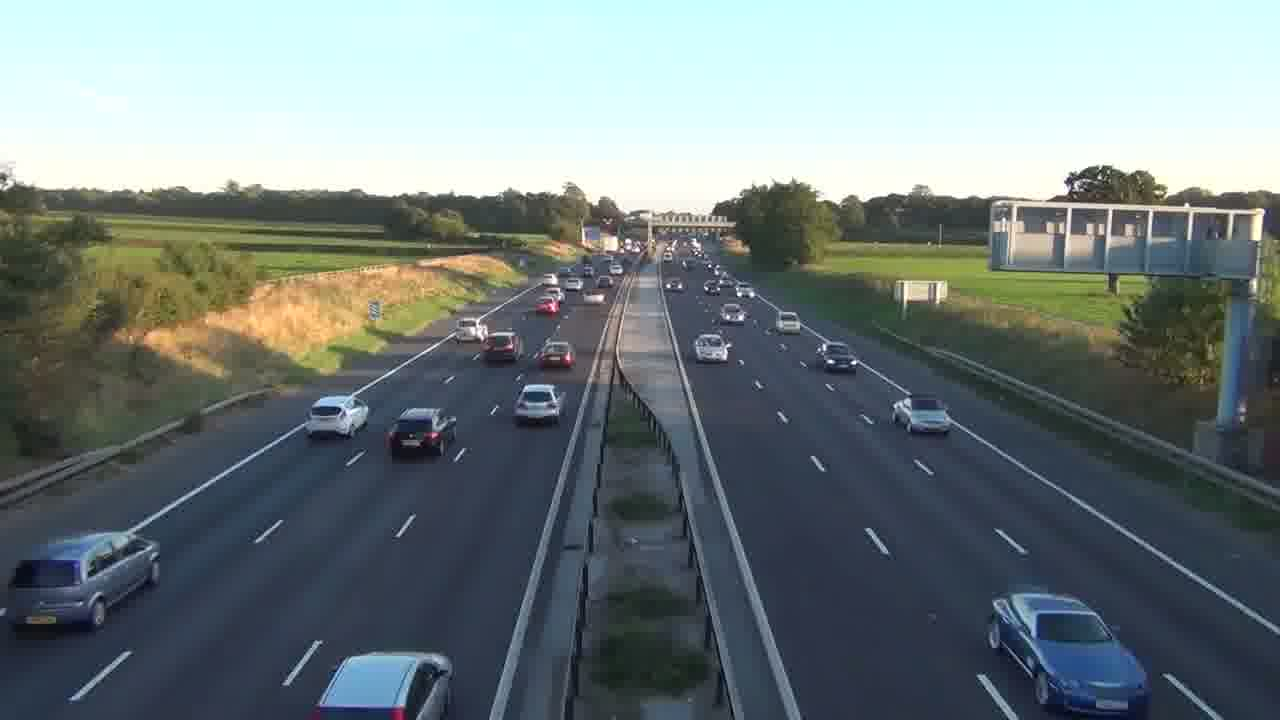car: (987, 591, 1152, 716), (307, 650, 454, 719), (891, 396, 950, 436), (513, 382, 564, 426), (818, 340, 858, 373), (537, 338, 576, 369), (693, 332, 732, 363)
truck: (3, 530, 161, 633)
